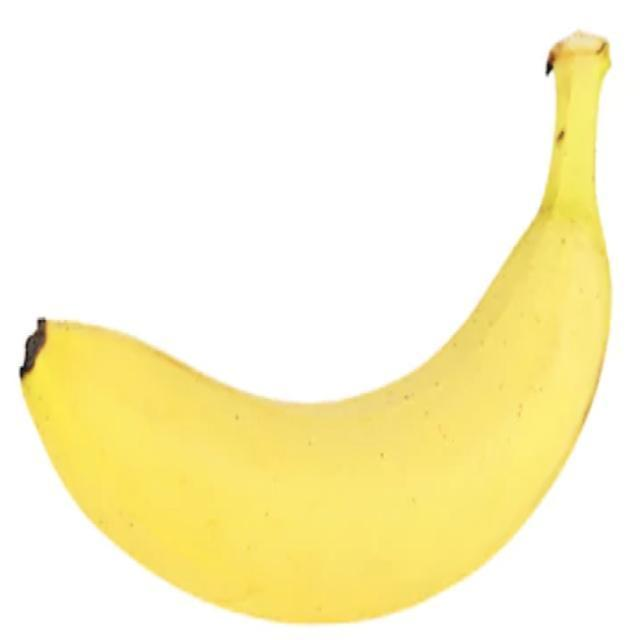Banana: (10, 51, 627, 632)
